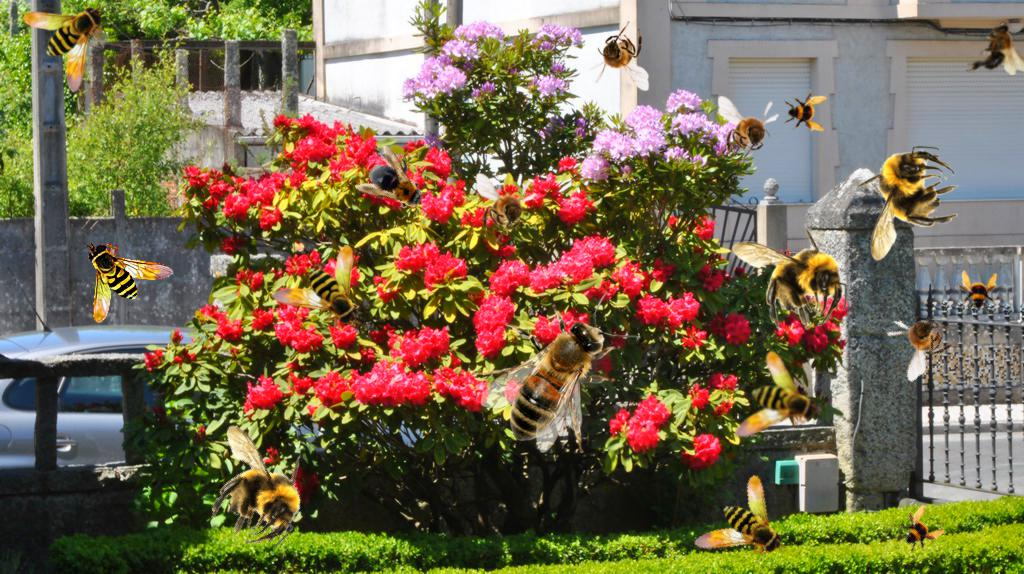Bee: (472, 291, 639, 453), (176, 407, 333, 564), (706, 344, 826, 462), (732, 223, 847, 330), (852, 146, 959, 261), (680, 472, 788, 574), (876, 293, 969, 383), (272, 245, 360, 327), (86, 241, 174, 323), (23, 5, 105, 93), (354, 143, 440, 225), (717, 93, 782, 167), (476, 173, 537, 243), (588, 21, 649, 91), (886, 498, 950, 562), (966, 22, 1024, 75), (783, 89, 827, 133), (955, 270, 999, 314)
